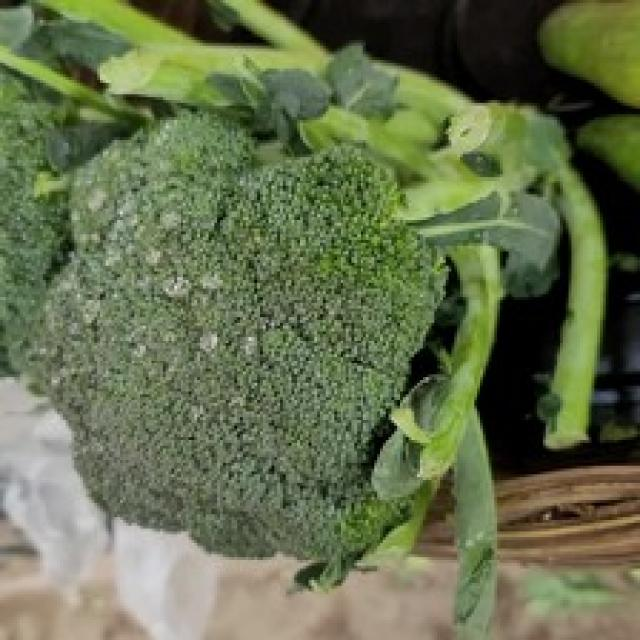Broccoli: (46, 114, 444, 569), (46, 114, 442, 563)
